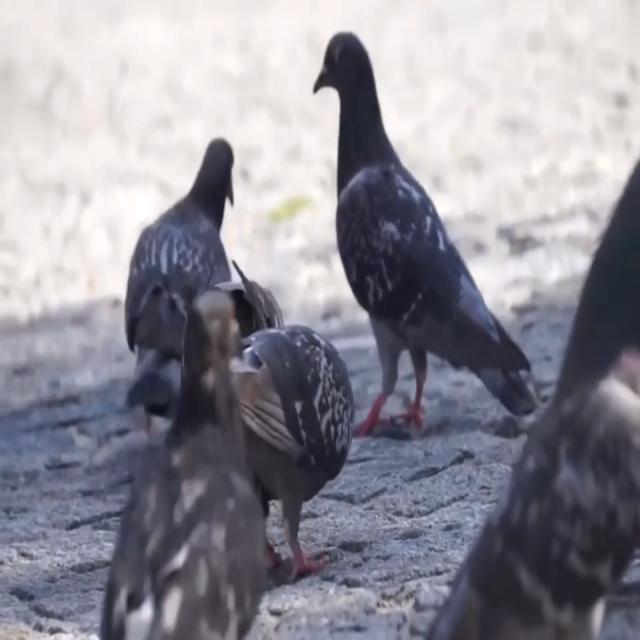bird: (412, 144, 640, 640), (296, 24, 552, 455), (83, 283, 278, 640), (200, 302, 362, 587), (114, 128, 251, 440), (166, 254, 294, 422)
